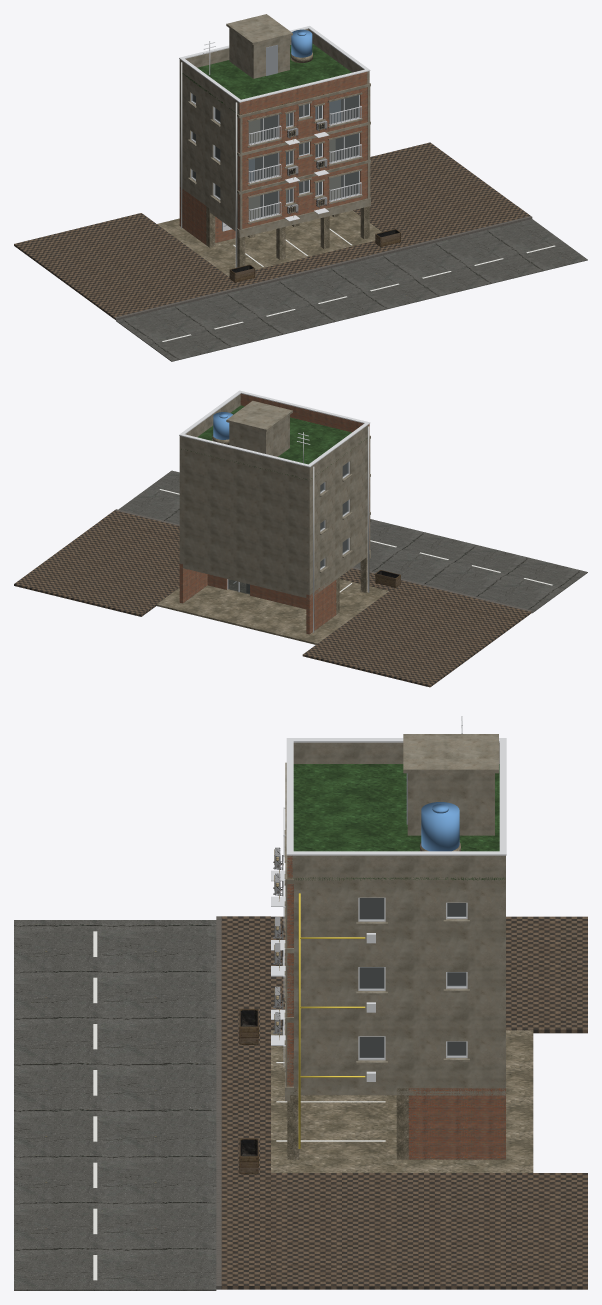
File: st_villa0.glb
3 views of the same model, one above another, from view 1: azimuth 30°, elevation 25°; view 2: azimuth 150°, elevation 25°; view 3: azimuth 270°, elevation 25° (orthographic). The views are drawn at different scales.
Parts seen in each view (by area): view 1: pave, asph, plaster, brick, conc, glass, steel, roof, room, curb, frame, curtain (+3 smaller); view 2: plaster, pave, asph, conc, brick, roof, steel, pipe, glass, curb, tank; view 3: asph, pave, plaster, conc, roof, brick, steel, glass, room, curb, tank, line (+3 smaller).
Part boxes in pixels (x1,y1,x2,y2): pave: (14, 142, 530, 318); asph: (116, 219, 587, 361); plaster: (179, 14, 370, 237); brick: (179, 72, 367, 244); conc: (157, 52, 381, 276); glass: (192, 94, 358, 219); steel: (179, 26, 370, 231); roof: (182, 43, 351, 114); room: (193, 95, 357, 216); curb: (114, 216, 532, 320); frame: (191, 93, 359, 220); curtain: (249, 114, 340, 219); plaster: (179, 394, 370, 598); pave: (14, 510, 530, 687); asph: (118, 470, 587, 613); conc: (156, 434, 388, 644); brick: (179, 393, 369, 634); roof: (181, 405, 367, 479); steel: (179, 390, 370, 467); pipe: (313, 426, 369, 632); glass: (228, 462, 348, 594); curb: (115, 509, 532, 613); tank: (213, 412, 232, 439); asph: (14, 920, 216, 1290); pave: (221, 916, 587, 1289); plaster: (284, 734, 505, 1101); conc: (271, 842, 533, 1172); roof: (291, 764, 505, 880); brick: (287, 855, 505, 1159); steel: (271, 716, 506, 1081); glass: (359, 898, 466, 1058); room: (360, 898, 465, 1057); curb: (216, 916, 221, 1289); tank: (421, 802, 459, 851); line: (93, 931, 385, 1280).
Bounding box in the file's own units: 32 × 14.3 × 21.
24 materials, 14 textured.
